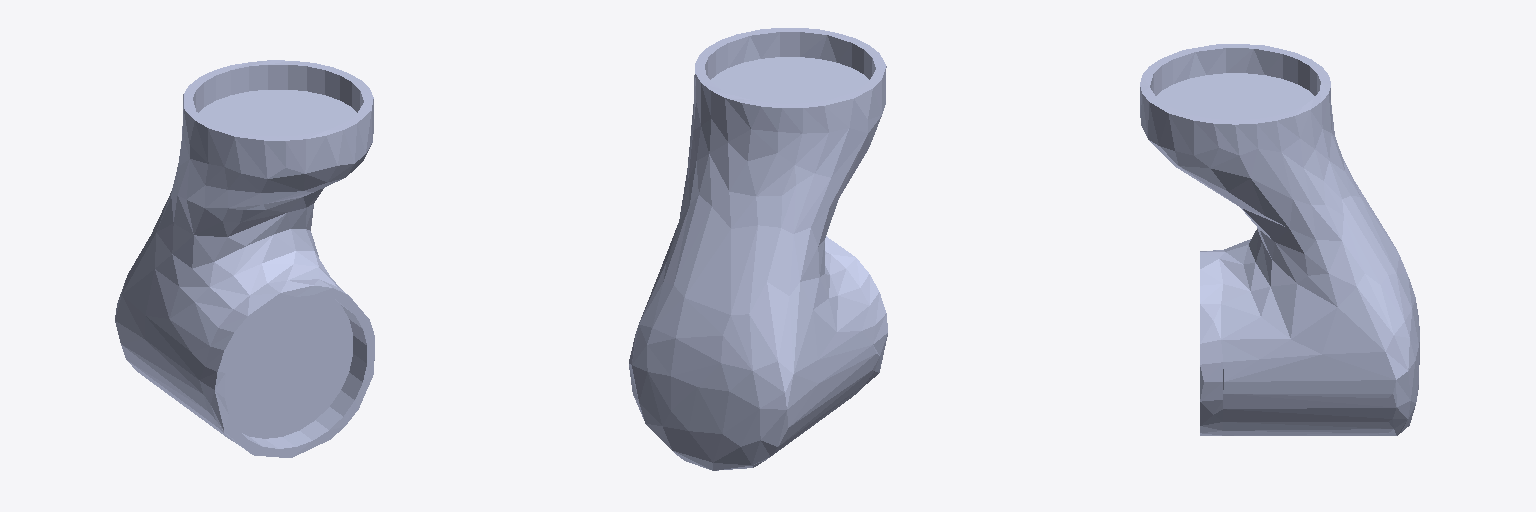
File: dual_rm_75b_description_r_link3_visuals_r_link3_mesh.obj
3 renders of one model, left to right at view 1: azimuth 30°, elevation 25°; view 2: azimuth 150°, elevation 25°; view 3: azimuth 270°, elevation 25°, orthographic.
Bounding box in the file's own units: 0.0697 × 0.1376 × 0.1017.